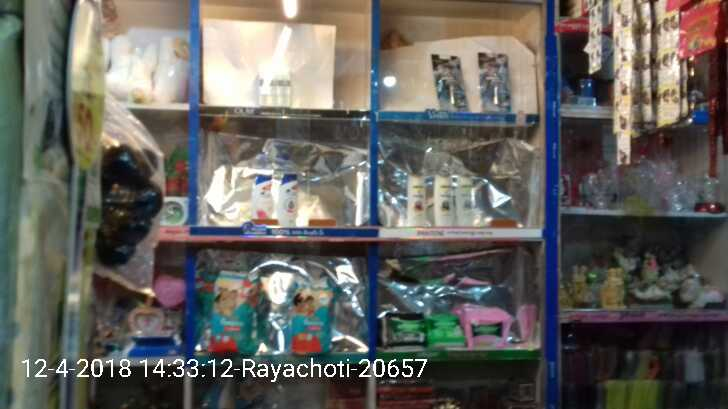venus: (431, 55, 471, 111), (480, 52, 509, 111)
